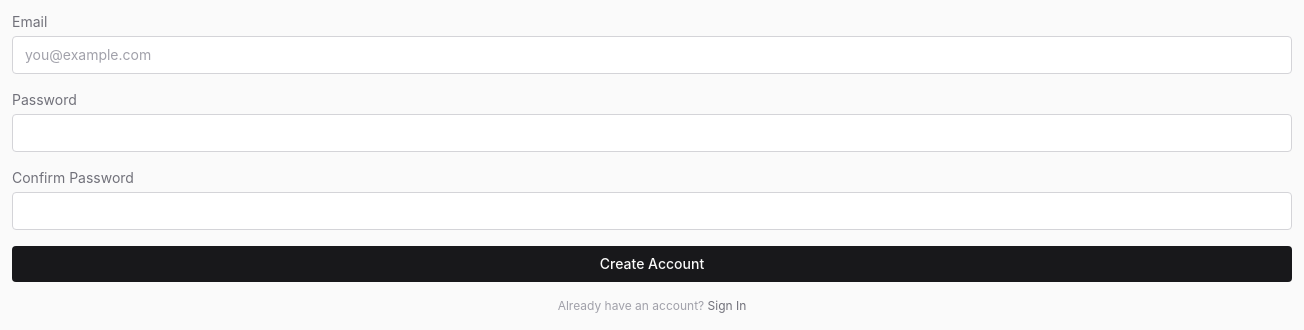
Test case: RegisterForm › signs up and shows the verification screen on success
In the field labelled "Email": (652,55) x1=12 y1=36 x2=1292 y2=74, type "me@example.com"
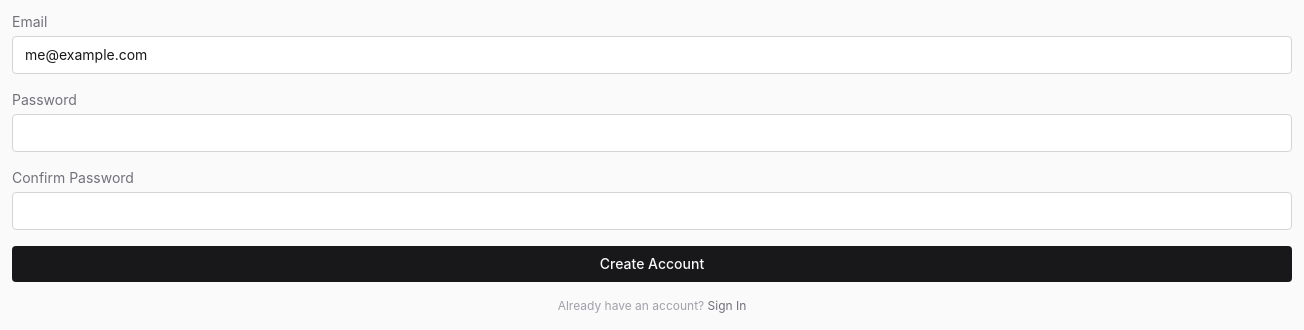
In the password field labelled "Password": (652,133) x1=12 y1=114 x2=1292 y2=152, type "password1"
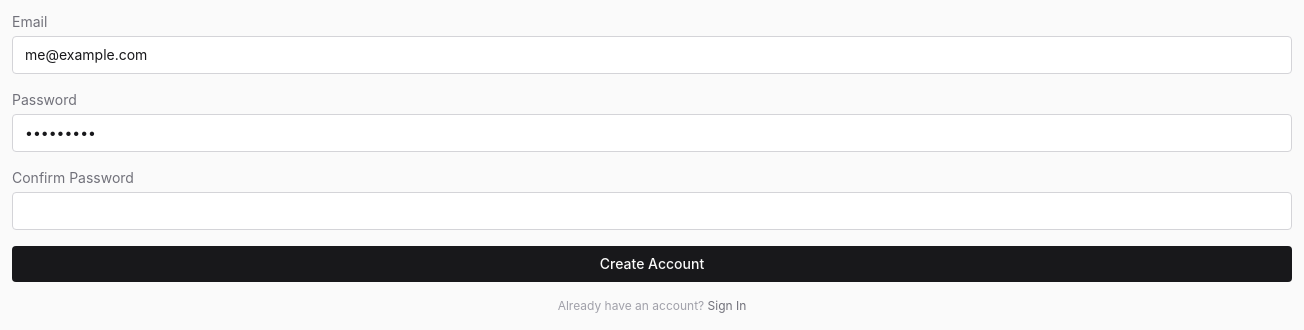
In the password field labelled "Confirm Password": (652,211) x1=12 y1=192 x2=1292 y2=230, type "password1"
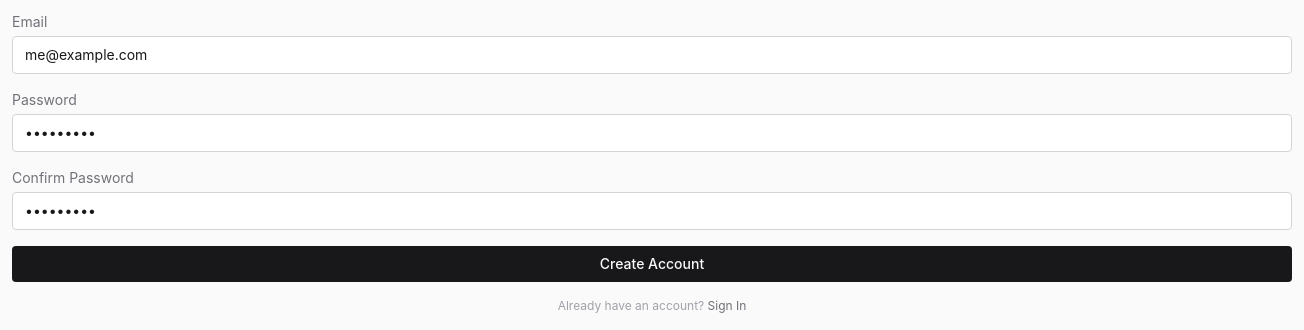
Click the button "Create Account": (652,264) x1=12 y1=246 x2=1292 y2=282
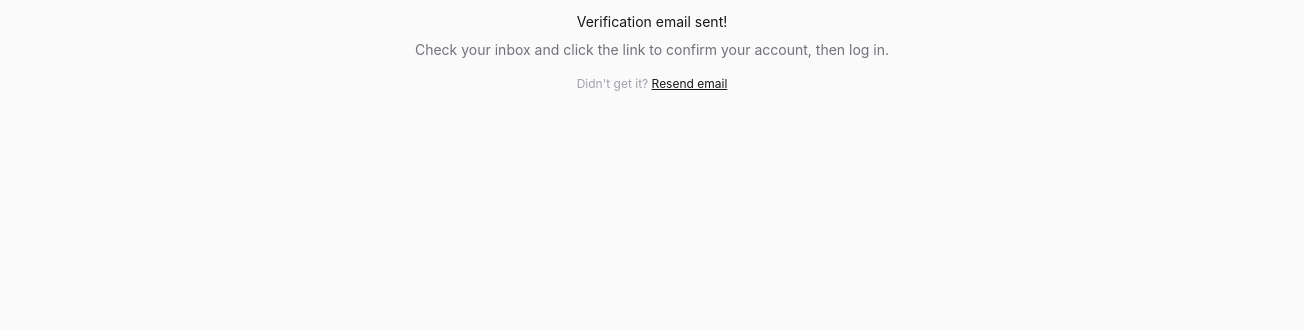
Expected: the text "Verification email sent!" is shown, x1=577 y1=13 x2=727 y2=30
